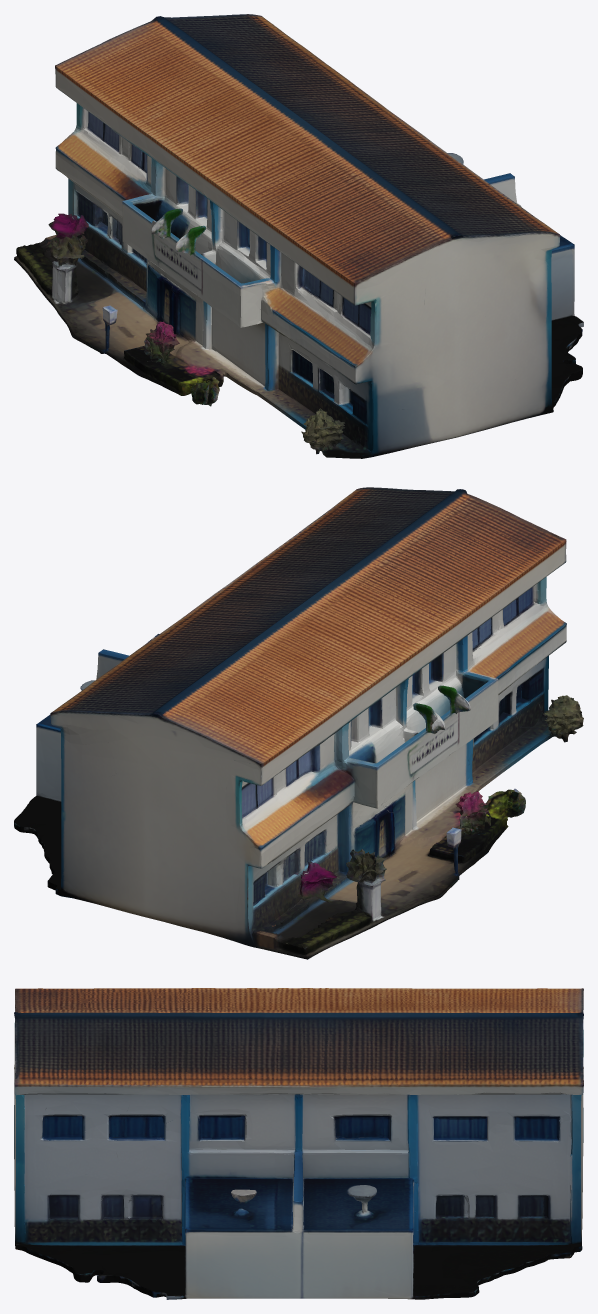
3 views of the same model, one above another, from view 1: azimuth 30°, elevation 25°; view 2: azimuth 150°, elevation 25°; view 3: azimuth 270°, elevation 25° (orthographic). The views are drawn at different scales.
Parts seen in each view (by area): view 1: world; view 2: world; view 3: world.
Part boxes in pixels (x1,y1,x2,y2): world: [14, 14, 583, 458]; world: [14, 487, 583, 959]; world: [14, 988, 583, 1299].
Size of the model in its own units: 0.7496 by 0.3864 by 0.9999.
Materials: 1 (1 with a texture image).
